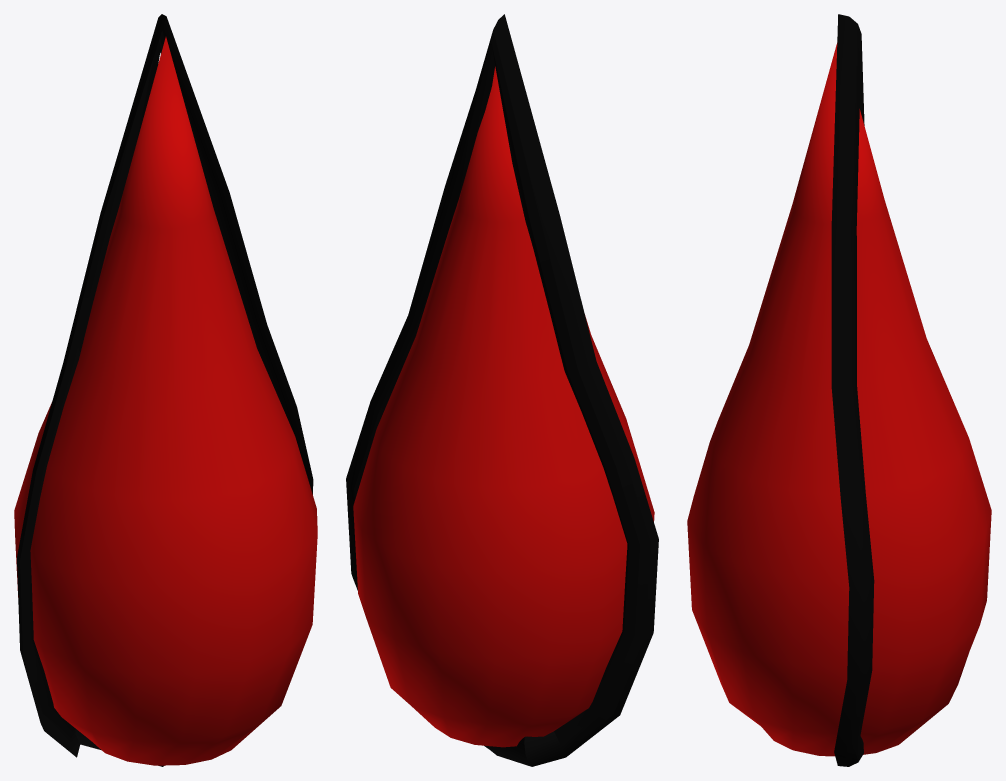
Rendered from Red.fbx.
The picture shows the model from 3 angles, left to right: view 1: azimuth 30°, elevation 25°; view 2: azimuth 150°, elevation 25°; view 3: azimuth 270°, elevation 25°; orthographic projection. The views are drawn at different scales.
Visible parts, largest first — view 1: LineArt.003; view 2: LineArt.003; view 3: LineArt.003.
Part boxes in pixels (x1,y1,x2,y2): LineArt.003: (14, 14, 317, 766); LineArt.003: (346, 14, 658, 766); LineArt.003: (687, 14, 991, 766).
Bounding box in the file's own units: 9.68 × 22.94 × 8.46.
